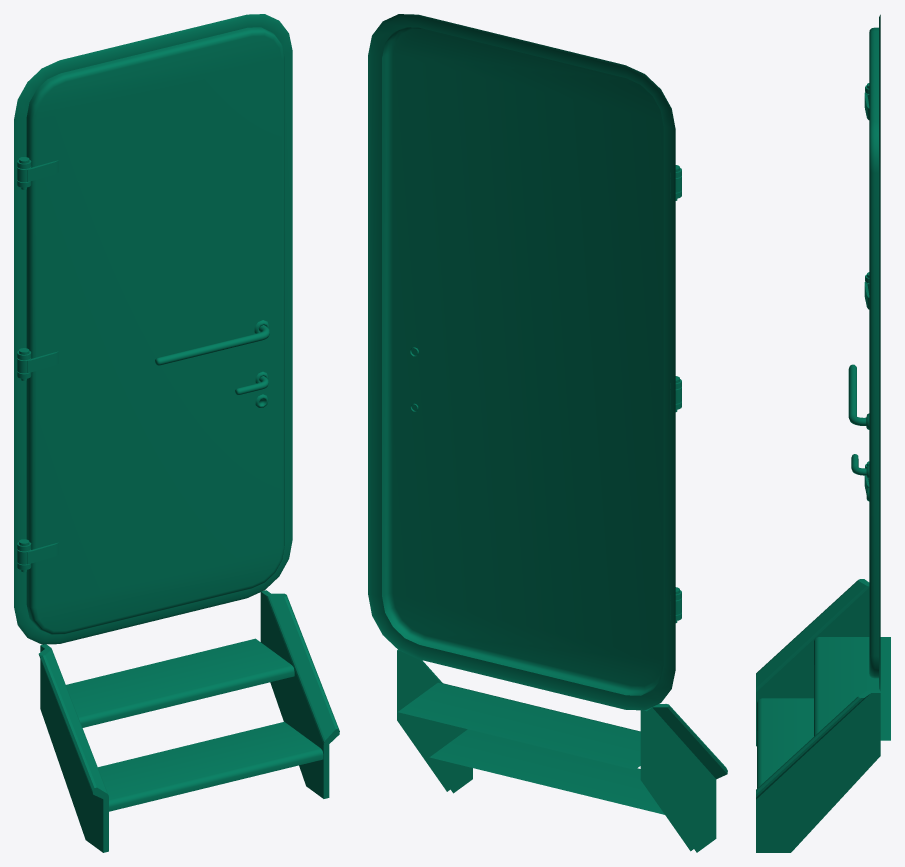
File: Engine18.fbx
The picture shows the model from 3 angles, left to right: view 1: azimuth 30°, elevation 25°; view 2: azimuth 150°, elevation 25°; view 3: azimuth 270°, elevation 25°; orthographic projection. The views are drawn at different scales.
Parts seen in each view (by area): view 1: Stuff.006; view 2: Stuff.006; view 3: Stuff.006.
Boxes of the visible parts, left/top/right/bottom form: Stuff.006: left=14, top=14, right=339, bottom=852; Stuff.006: left=368, top=14, right=727, bottom=852; Stuff.006: left=756, top=14, right=890, bottom=852.
Bounding box in the file's own units: 99.28 × 252 × 41.99.
